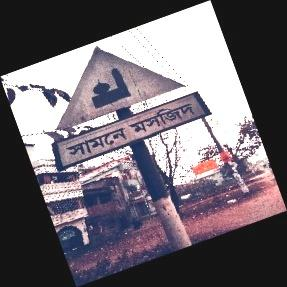Mosque in front: (52, 46, 207, 173)
